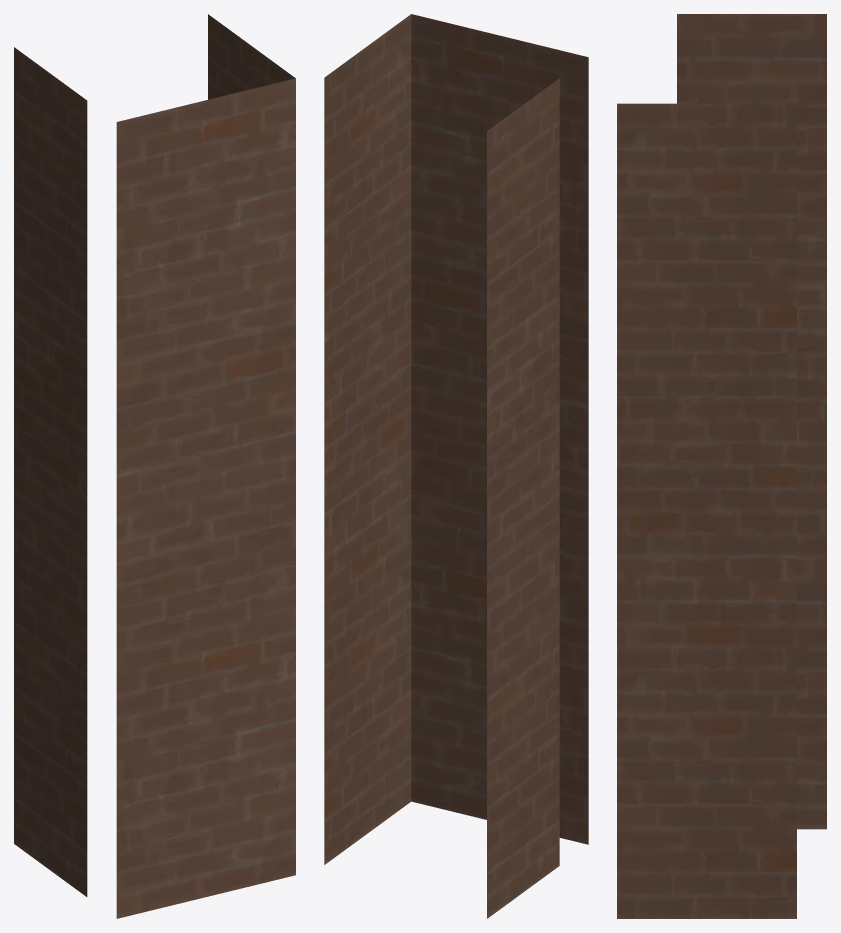
The model's file is Brick_90Angle_L.glb.
3 renders of one model, left to right at view 1: azimuth 30°, elevation 25°; view 2: azimuth 150°, elevation 25°; view 3: azimuth 270°, elevation 25°, orthographic. The views are drawn at different scales.
Parts seen in each view (by area): view 1: Brick_90Angle_L; view 2: Brick_90Angle_L; view 3: Brick_90Angle_L.
Part boxes in pixels (x1,y1,x2,y2): Brick_90Angle_L: [14, 14, 295, 918]; Brick_90Angle_L: [324, 14, 588, 918]; Brick_90Angle_L: [617, 14, 826, 918].
Size of the model in its own units: 0.7061 by 3 by 0.6999.
Materials: 1 (1 with a texture image).
